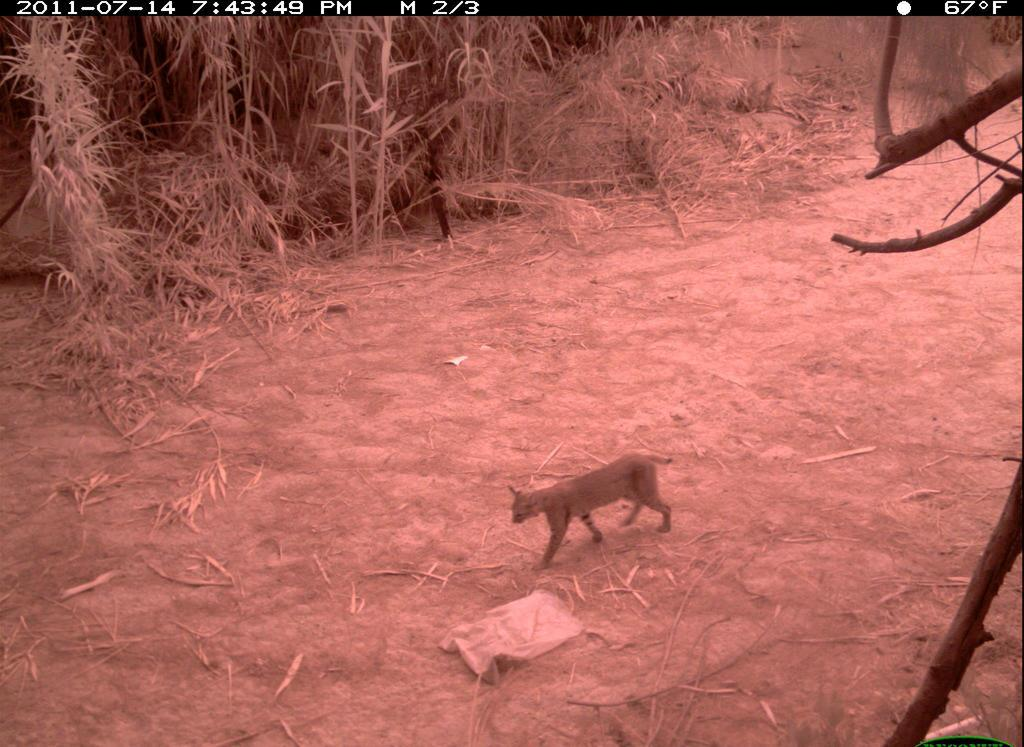bobcat: (447, 393, 730, 594)
